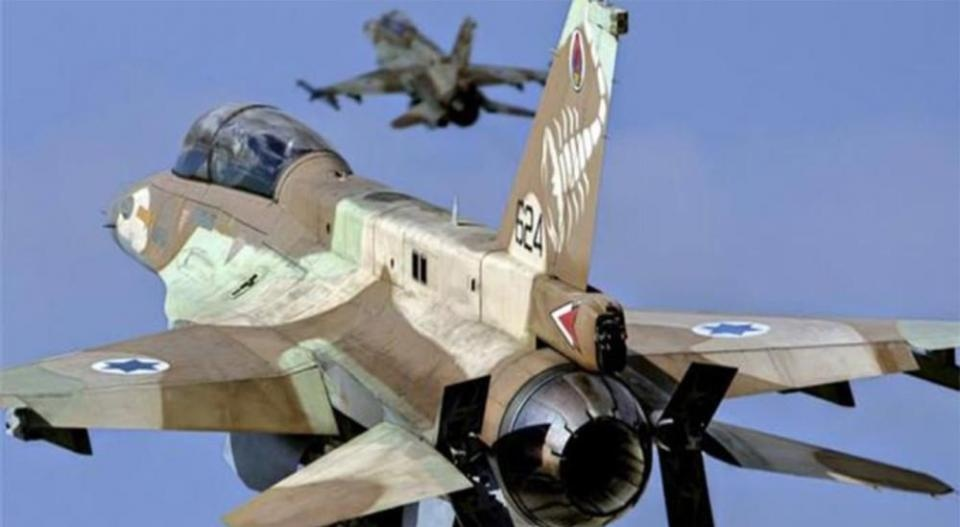airplane: (10, 1, 951, 512), (297, 8, 576, 135)
